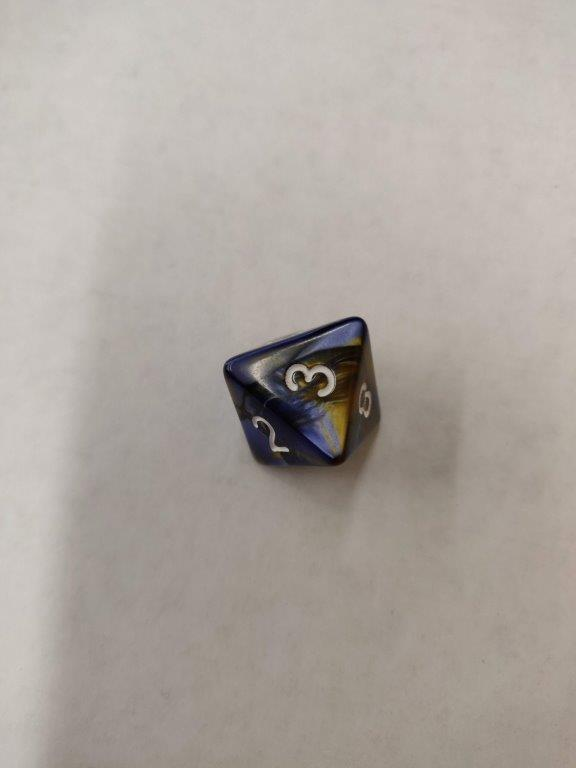d8-3: (221, 314, 385, 470)
